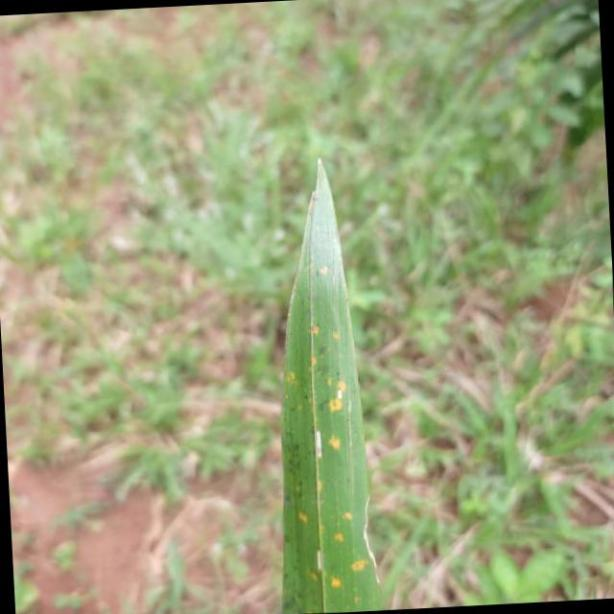Kalium: (276, 140, 387, 614)
